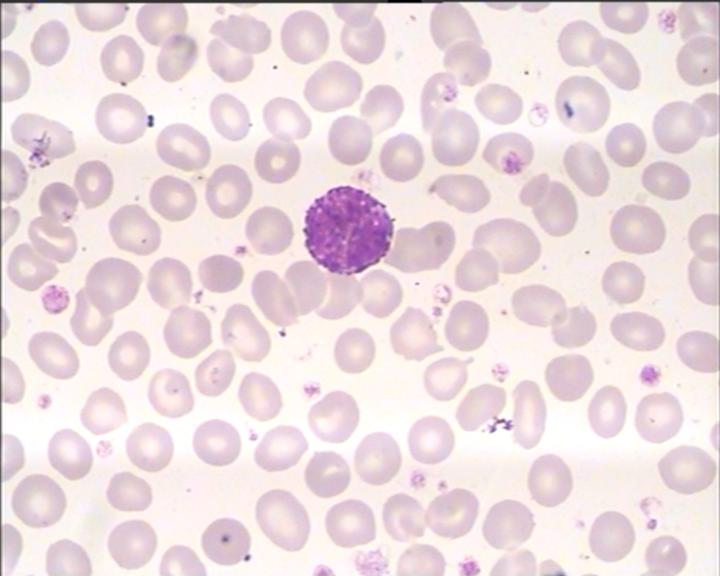baso: (295, 178, 398, 279)
